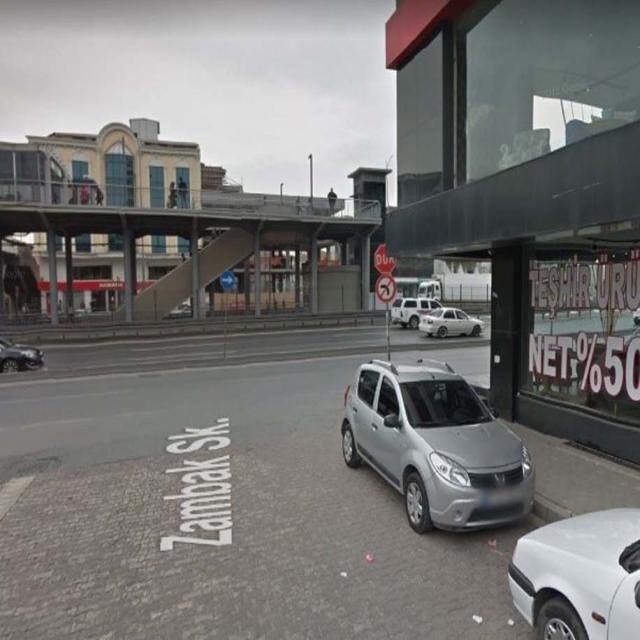dur: (374, 244, 398, 274)
sag: (220, 271, 234, 290)
soladonulmez: (375, 275, 396, 302)
